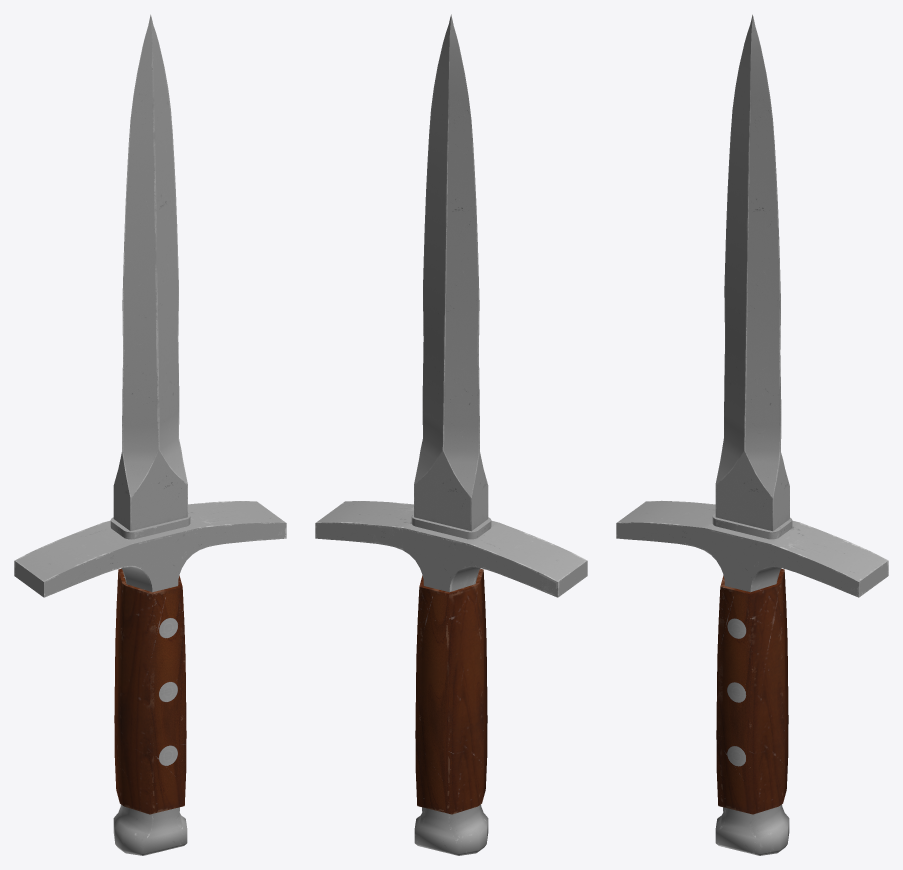
Rendered from GAM0210005.fbx.
3 views of the same model, side by side, from view 1: azimuth 30°, elevation 25°; view 2: azimuth 150°, elevation 25°; view 3: azimuth 330°, elevation 25° (orthographic).
Parts seen in each view (by area): view 1: smGAM0210005; view 2: smGAM0210005; view 3: smGAM0210005.
Part boxes in pixels (x1,y1,x2,y2): smGAM0210005: (14,14,286,855); smGAM0210005: (315,14,587,855); smGAM0210005: (616,14,888,855).
Size of the model in its own units: 13.62 by 44.51 by 3.3.
1 material, 1 textured.
